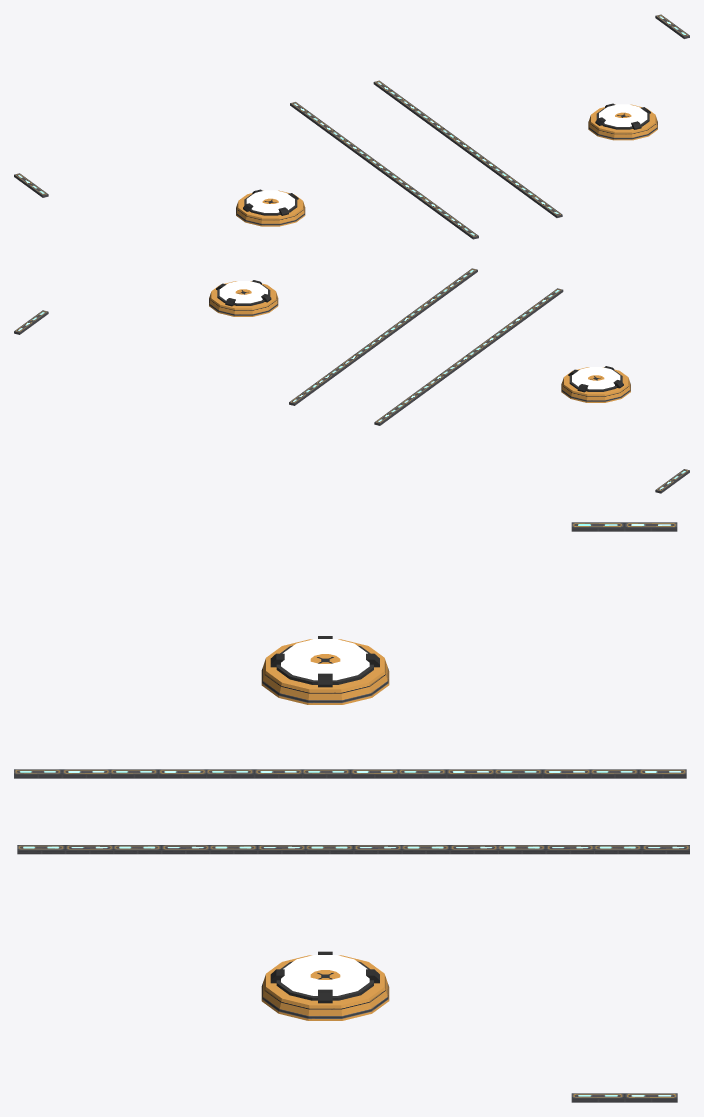
File: BldPlatformLarge.glb
3 renders of one model, top to bottom at view 1: azimuth 30°, elevation 25°; view 2: azimuth 150°, elevation 25°; view 3: azimuth 270°, elevation 25°, orthographic. The views are drawn at different scales.
Parts seen in each view (by area): view 1: SM_Bld_Light_09_1__1__2, SM_Bld_Light_09_1__2__2; view 2: SM_Bld_Light_09_1__1__2, SM_Bld_Light_09_1__2__2; view 3: SM_Bld_Light_09_1__2__2, SM_Bld_Light_09_1__1__2, SM_Bld_Platform_Large_10_1__34_, SM_Bld_Platform_Large_10_1__35_, SM_Bld_Platform_Large_10_1__20_, SM_Bld_Platform_Large_10_1__22_, SM_Bld_Platform_Large_10_1__23_, SM_Bld_Platform_Large_10_1__24_, SM_Bld_Platform_Large_10_1__25_, SM_Bld_Platform_Large_10_1__27_, SM_Bld_Platform_Large_10_1__31_, SM_Bld_Platform_Large_10_1__26_ (+6 smaller).
Part boxes in pixels (bbox=[...]): SM_Bld_Light_09_1__1__2: bbox=[236, 189, 305, 226]; SM_Bld_Light_09_1__2__2: bbox=[588, 103, 657, 140]; SM_Bld_Light_09_1__1__2: bbox=[561, 366, 630, 402]; SM_Bld_Light_09_1__2__2: bbox=[209, 280, 278, 316]; SM_Bld_Light_09_1__2__2: bbox=[261, 951, 389, 1020]; SM_Bld_Light_09_1__1__2: bbox=[261, 636, 389, 704]; SM_Bld_Platform_Large_10_1__34_: bbox=[571, 522, 677, 531]; SM_Bld_Platform_Large_10_1__35_: bbox=[571, 1093, 677, 1102]; SM_Bld_Platform_Large_10_1__20_: bbox=[110, 769, 206, 778]; SM_Bld_Platform_Large_10_1__22_: bbox=[494, 769, 590, 778]; SM_Bld_Platform_Large_10_1__23_: bbox=[398, 769, 494, 778]; SM_Bld_Platform_Large_10_1__24_: bbox=[302, 769, 398, 778]; SM_Bld_Platform_Large_10_1__25_: bbox=[206, 769, 302, 778]; SM_Bld_Platform_Large_10_1__27_: bbox=[590, 769, 686, 778]; SM_Bld_Platform_Large_10_1__31_: bbox=[209, 845, 305, 854]; SM_Bld_Platform_Large_10_1__26_: bbox=[401, 845, 497, 854].
Bounding box in the file's own units: 71.39 × 1.3 × 35.16.
2 materials, 2 textured.
